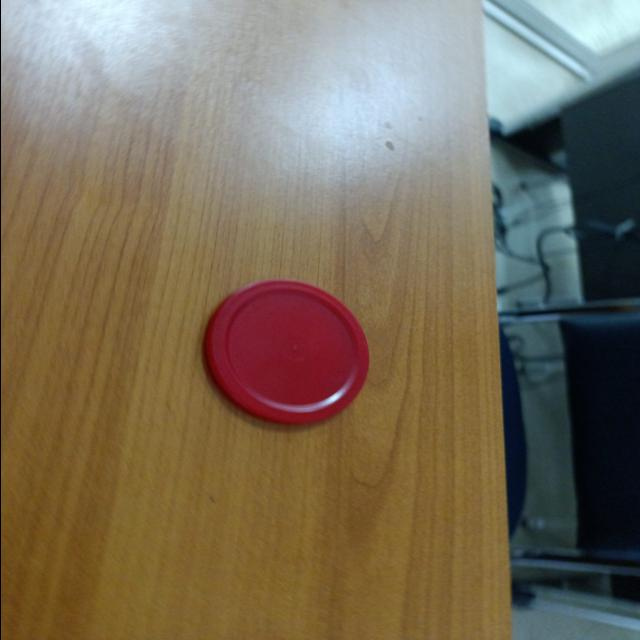chip: (204, 278, 374, 426)
